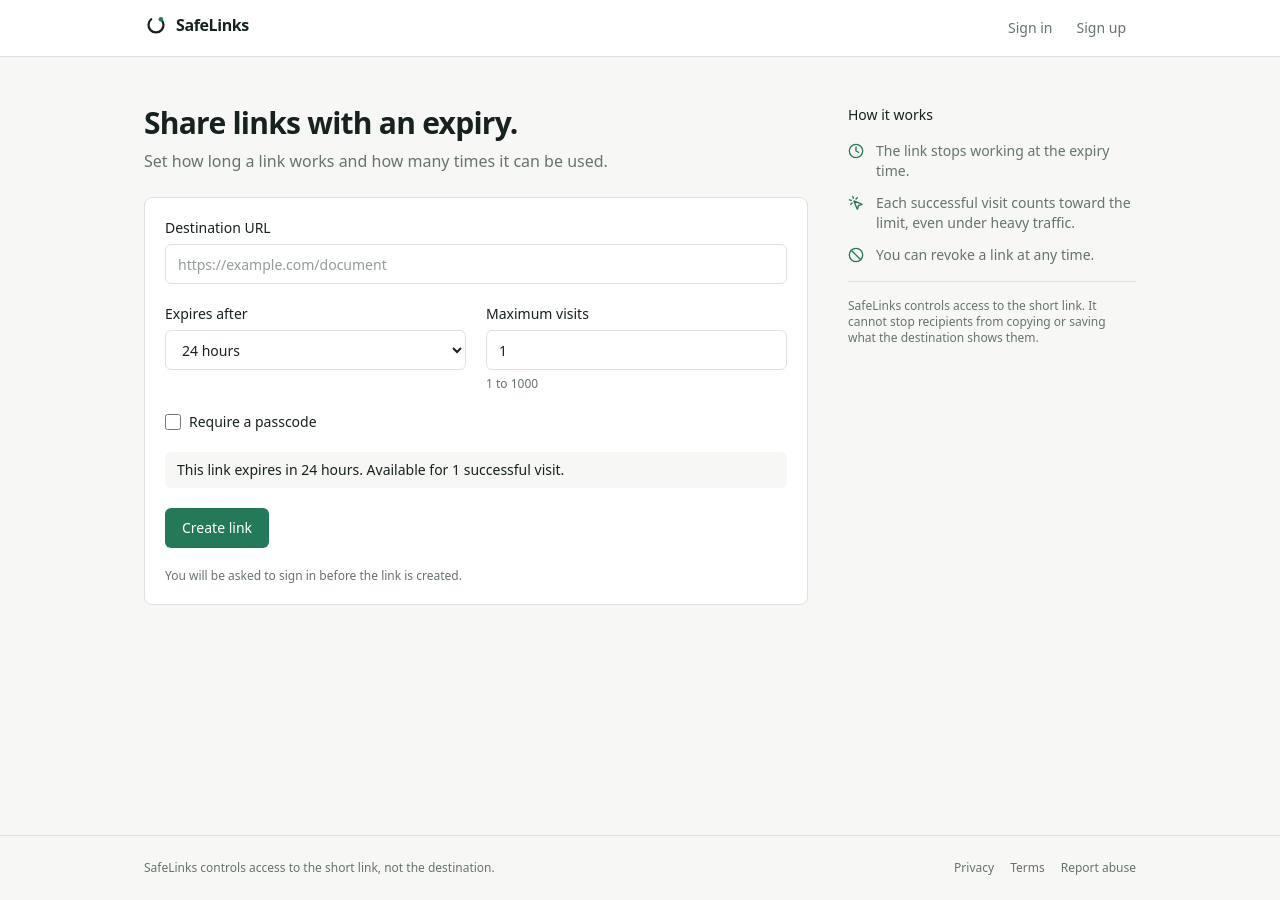
Test case: create link › sends signed-out users to sign in, keeping the draft but not the passcode
Type "https://example.com/x" into the field labelled "Destination URL".
click(476, 264); type("https://example.com/x")  # box [165,244,787,284]
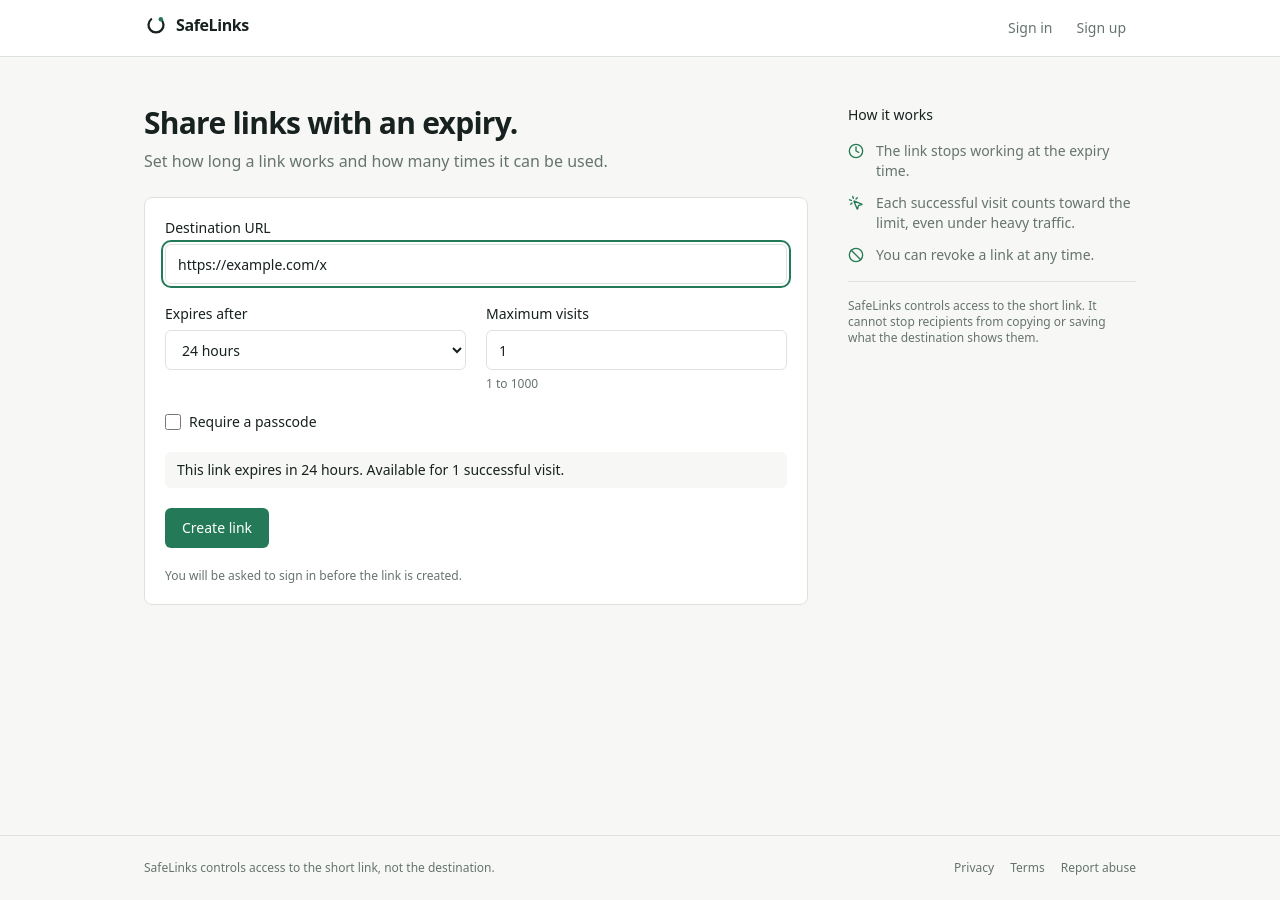
Click the button "Create link".
click(217, 528)  # box [165,508,269,548]
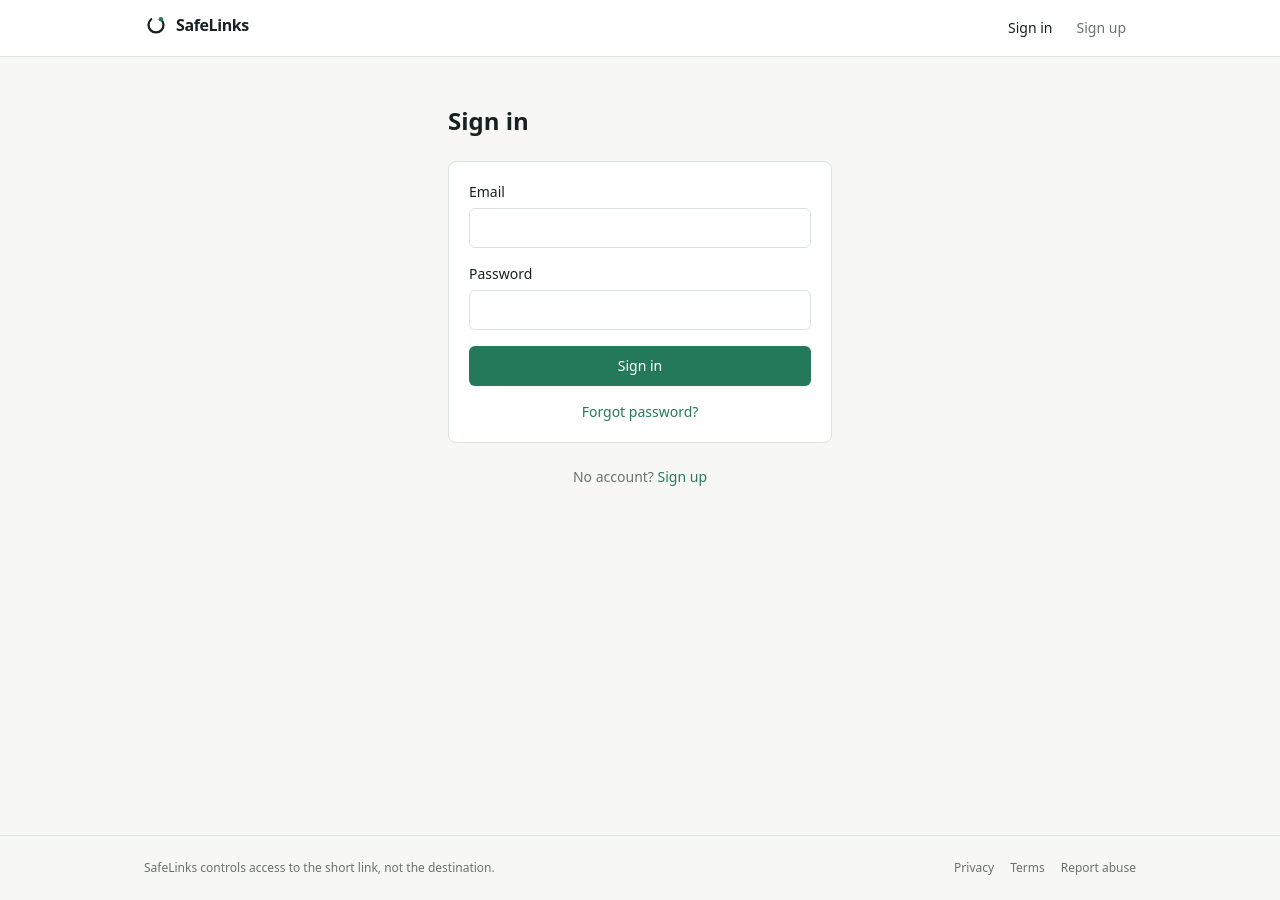
Check: the heading "Sign in" is shown, box [448,104,529,137]
